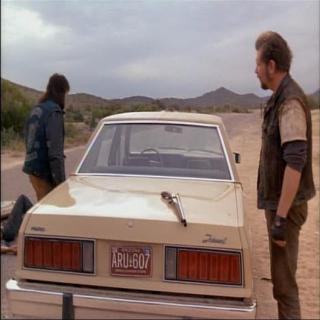gun: (158, 185, 189, 232)
